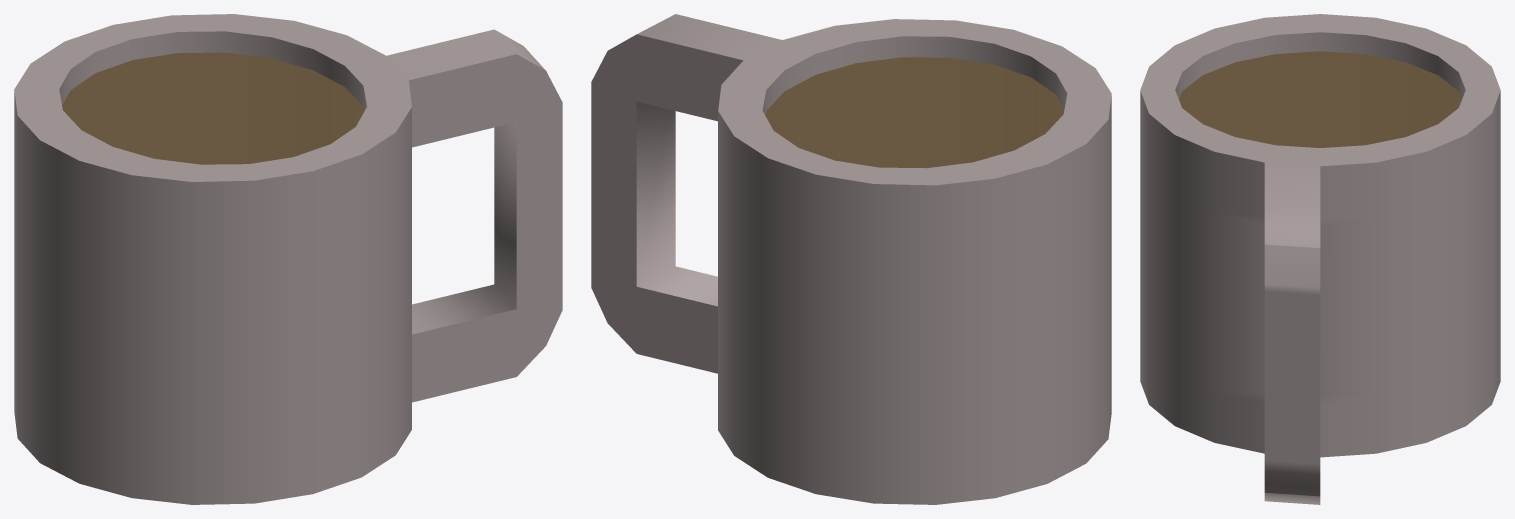
The model's file is cup.fbx.
3 views of the same model, side by side, from view 1: azimuth 30°, elevation 25°; view 2: azimuth 150°, elevation 25°; view 3: azimuth 270°, elevation 25° (orthographic). The views are drawn at different scales.
Parts seen in each view (by area): view 1: pCylinder3; view 2: pCylinder3; view 3: pCylinder3.
Part boxes in pixels (<box>): pCylinder3: <box>14,14,562,504</box>; pCylinder3: <box>591,14,1111,504</box>; pCylinder3: <box>1140,14,1500,504</box>.
Bounding box in the file's own units: 67.13 × 41.41 × 46.47.
